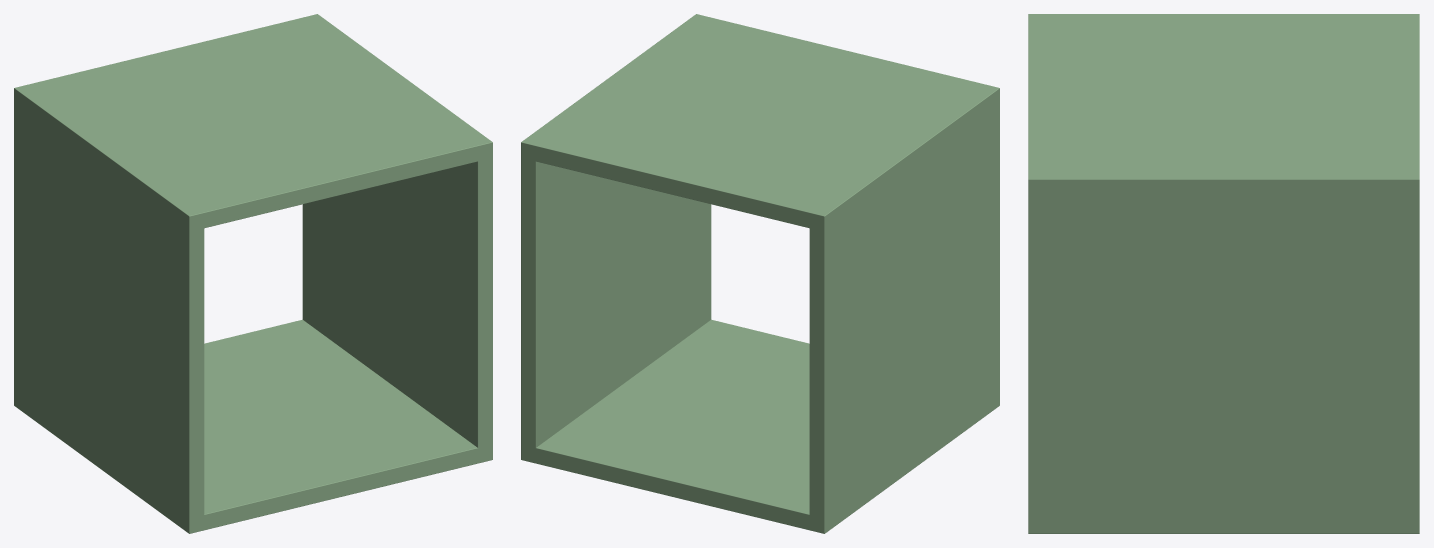
The model's file is MOD-1X1-A-O-SA.glb.
3 renders of one model, left to right at view 1: azimuth 30°, elevation 25°; view 2: azimuth 150°, elevation 25°; view 3: azimuth 270°, elevation 25°, orthographic. The views are drawn at different scales.
Bounding box in the file's own units: 360 × 360 × 360.
